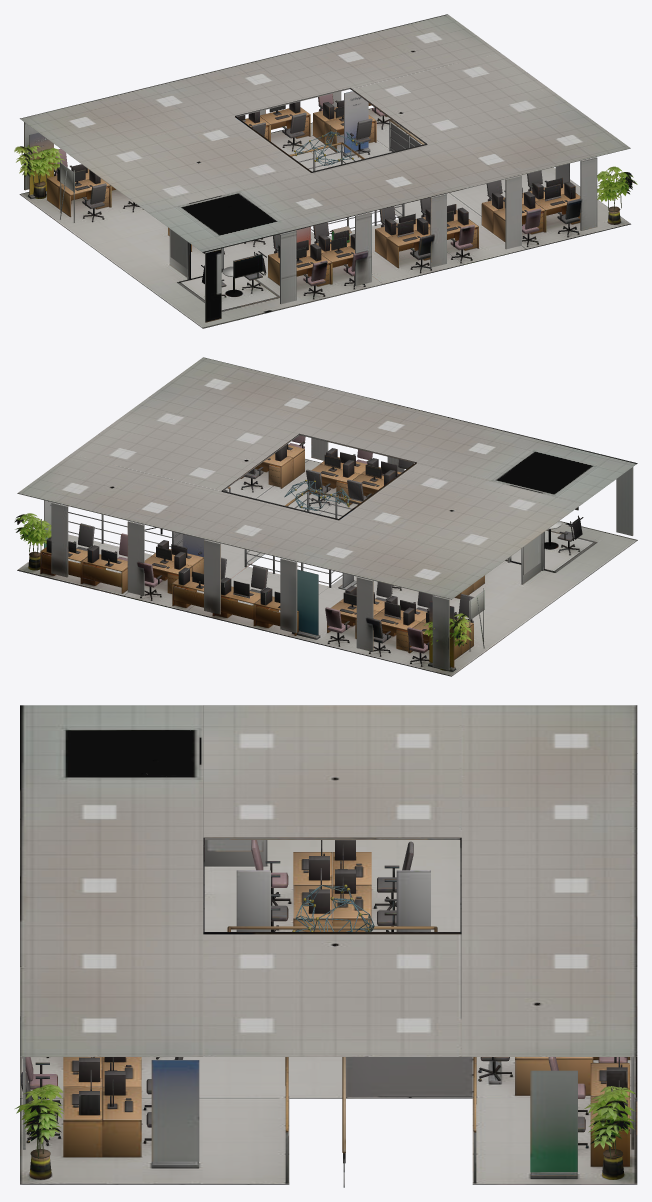
File: world_in1e.glb
3 views of the same model, one above another, from view 1: azimuth 30°, elevation 25°; view 2: azimuth 150°, elevation 25°; view 3: azimuth 270°, elevation 25° (orthographic). The views are drawn at different scales.
Parts seen in each view (by area): view 1: W_in1e; view 2: W_in1e; view 3: W_in1e.
Part boxes in pixels (x1,y1,x2,y2): W_in1e: [14, 14, 637, 328]; W_in1e: [14, 357, 637, 676]; W_in1e: [15, 705, 637, 1187].
Size of the model in its own units: 15.58 by 3.21 by 11.12.
1 material, 1 textured.
